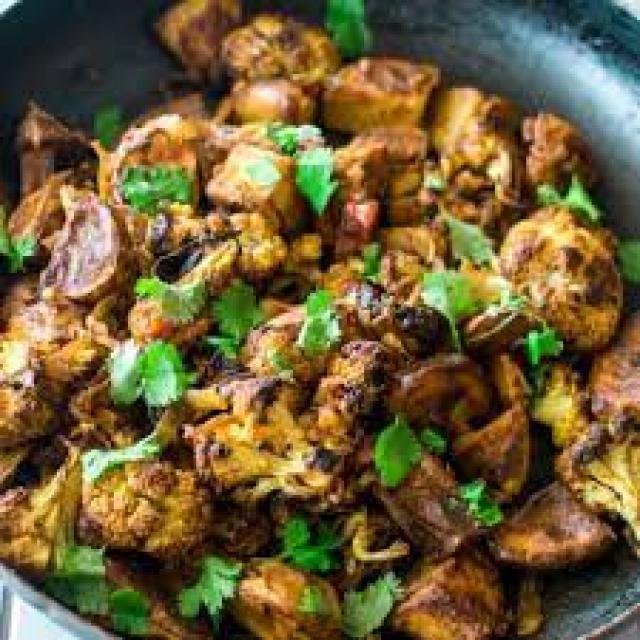Aloo Gobi: (117, 115, 531, 632)
